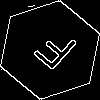F: (25, 25, 80, 80)
